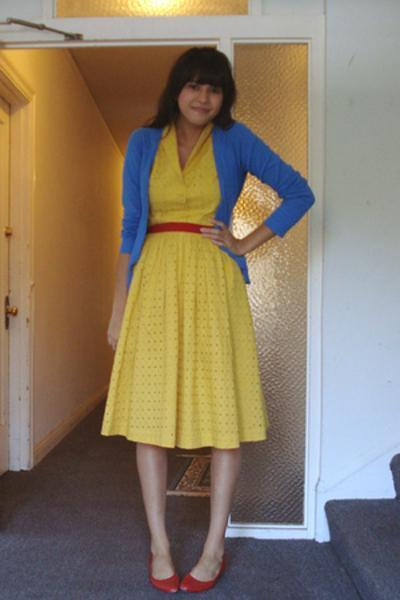dress: (101, 135, 265, 448)
jacket: (120, 123, 314, 275)
